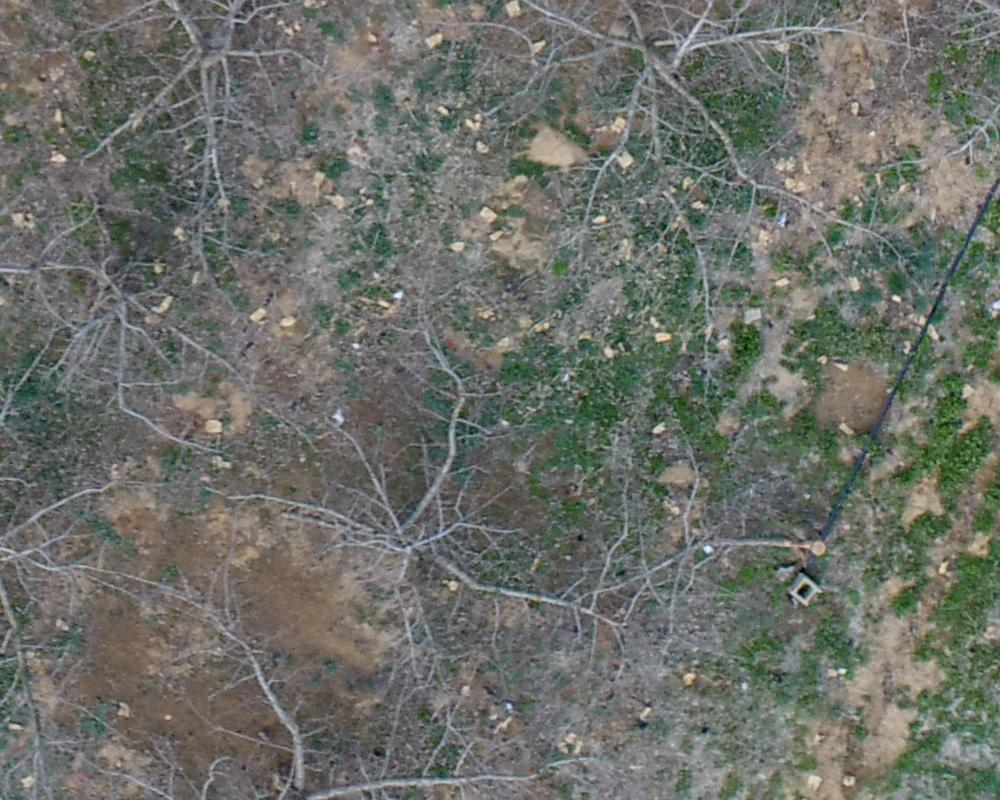apple: (217, 322, 824, 705), (420, 10, 929, 382), (70, 573, 604, 790), (36, 10, 400, 252), (10, 197, 270, 457)
